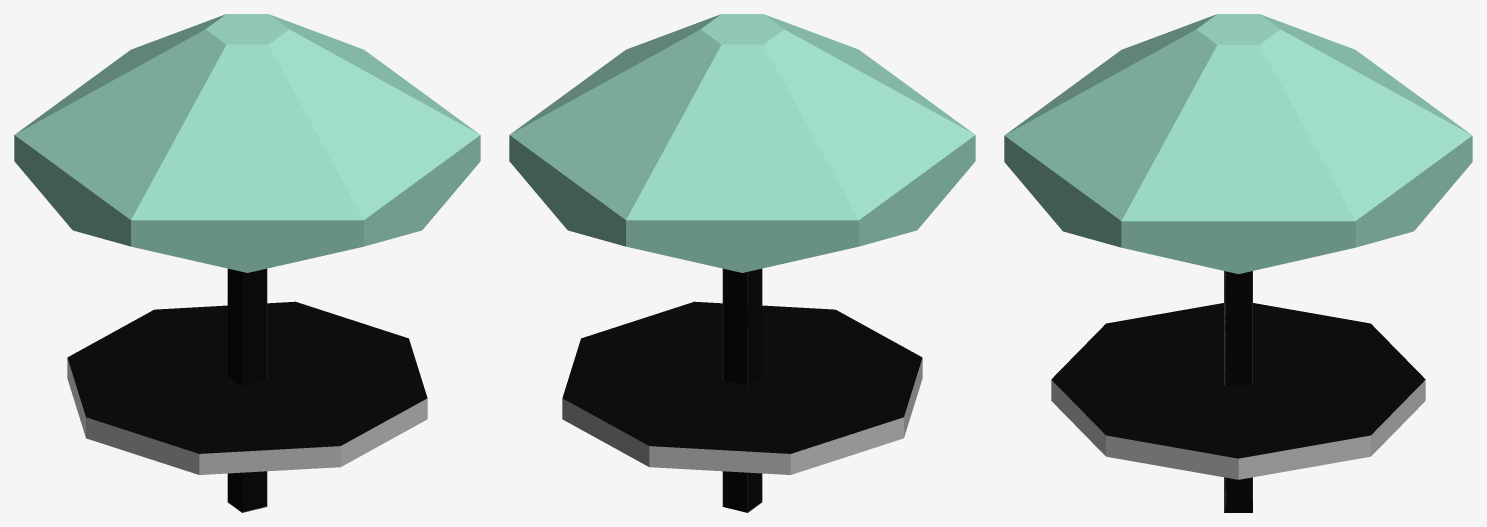
File: detail_umbrellaDetailed1.fbx
3 views of the same model, side by side, from view 1: azimuth 30°, elevation 25°; view 2: azimuth 150°, elevation 25°; view 3: azimuth 270°, elevation 25° (orthographic).
Parts seen in each view (by area): view 1: detail_umbrellaDetailed; view 2: detail_umbrellaDetailed; view 3: detail_umbrellaDetailed.
Part boxes in pixels (x1,y1,x2,y2): detail_umbrellaDetailed: [14, 14, 480, 512]; detail_umbrellaDetailed: [509, 14, 975, 512]; detail_umbrellaDetailed: [1004, 14, 1472, 512].
Size of the model in its own units: 34.64 by 45 by 40.
